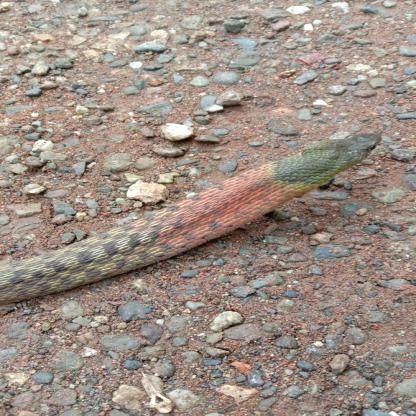Snake: (17, 126, 382, 296)
